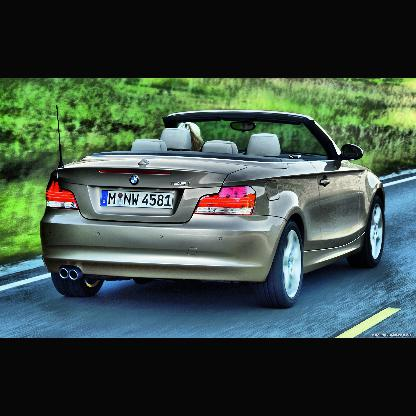BMW 1 Series Convertible 2012: (40, 105, 386, 307)
